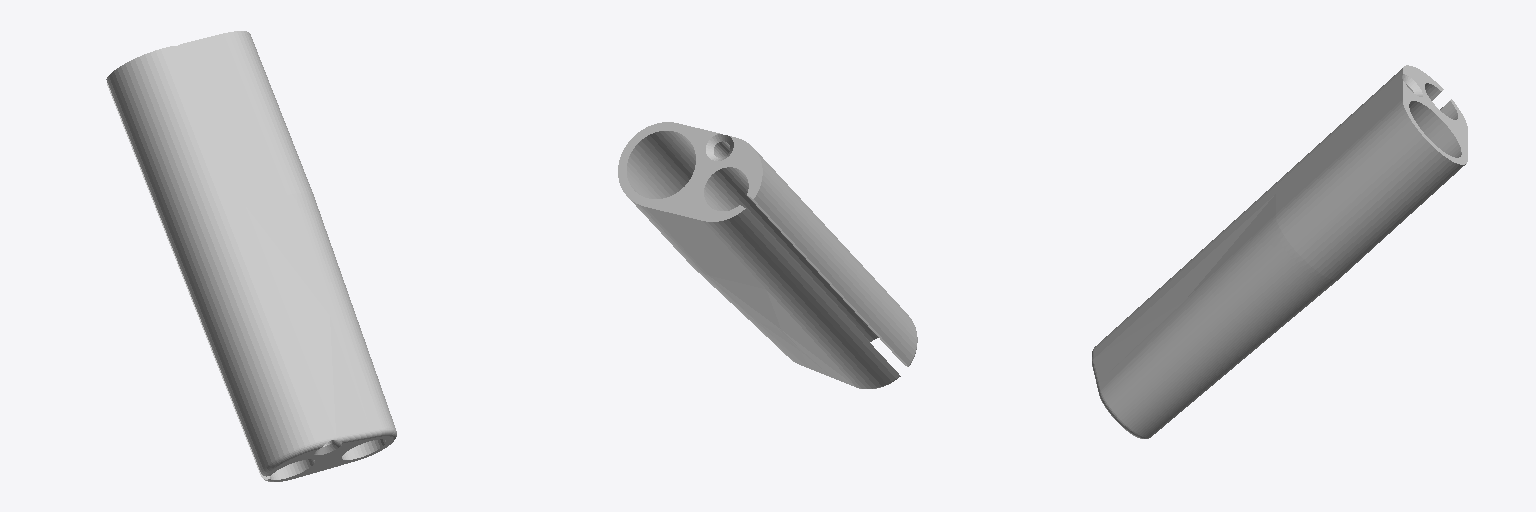
Rendered from [TPU] Adapter 6mm to 4mm Left.obj.
3 views of the same model, side by side, from view 1: azimuth 30°, elevation 25°; view 2: azimuth 150°, elevation 25°; view 3: azimuth 270°, elevation 25° (orthographic).
Visible parts, largest first — view 1: [TPU] Adapter 6mm to 4mm Left; view 2: [TPU] Adapter 6mm to 4mm Left; view 3: [TPU] Adapter 6mm to 4mm Left.
Boxes of the visible parts, <box> form: [TPU] Adapter 6mm to 4mm Left: <box>106,31,396,481</box>; [TPU] Adapter 6mm to 4mm Left: <box>618,122,917,388</box>; [TPU] Adapter 6mm to 4mm Left: <box>1092,65,1467,438</box>.
Size of the model in its own units: 13.35 by 31.44 by 31.44.